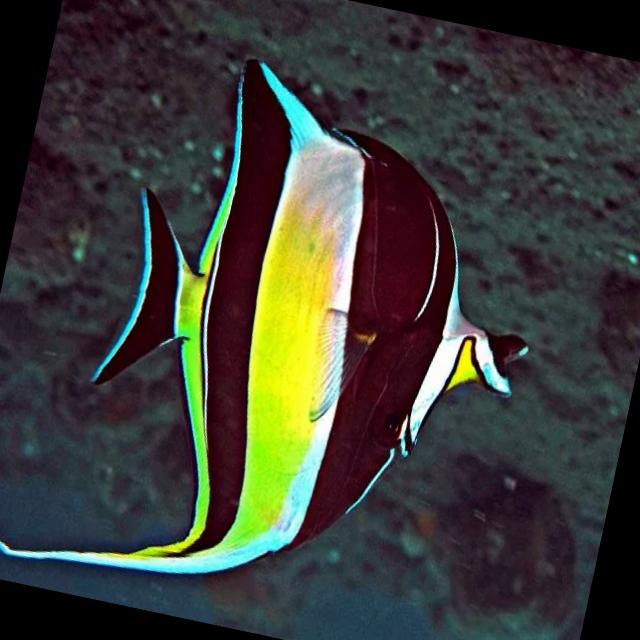MorishIdol: (0, 16, 576, 640)
